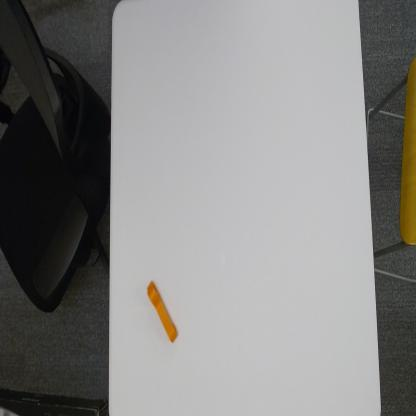Screwdriver: (145, 276, 179, 345)
